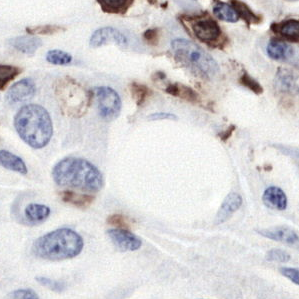Lymphocyte: (178, 9, 227, 49)
